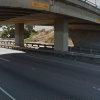Bridge: (3, 1, 94, 50)
